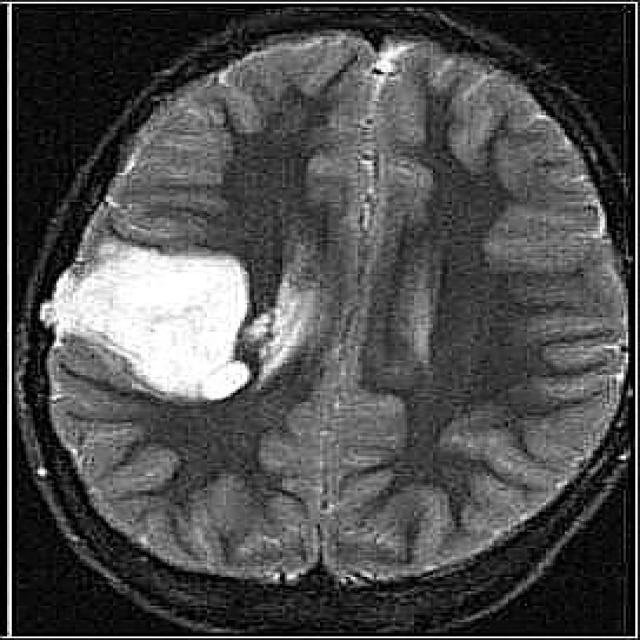Tumor-Cell: (56, 223, 250, 404)
